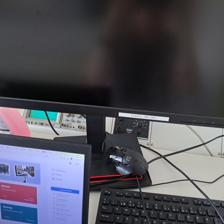mouse: (105, 141, 149, 180)
